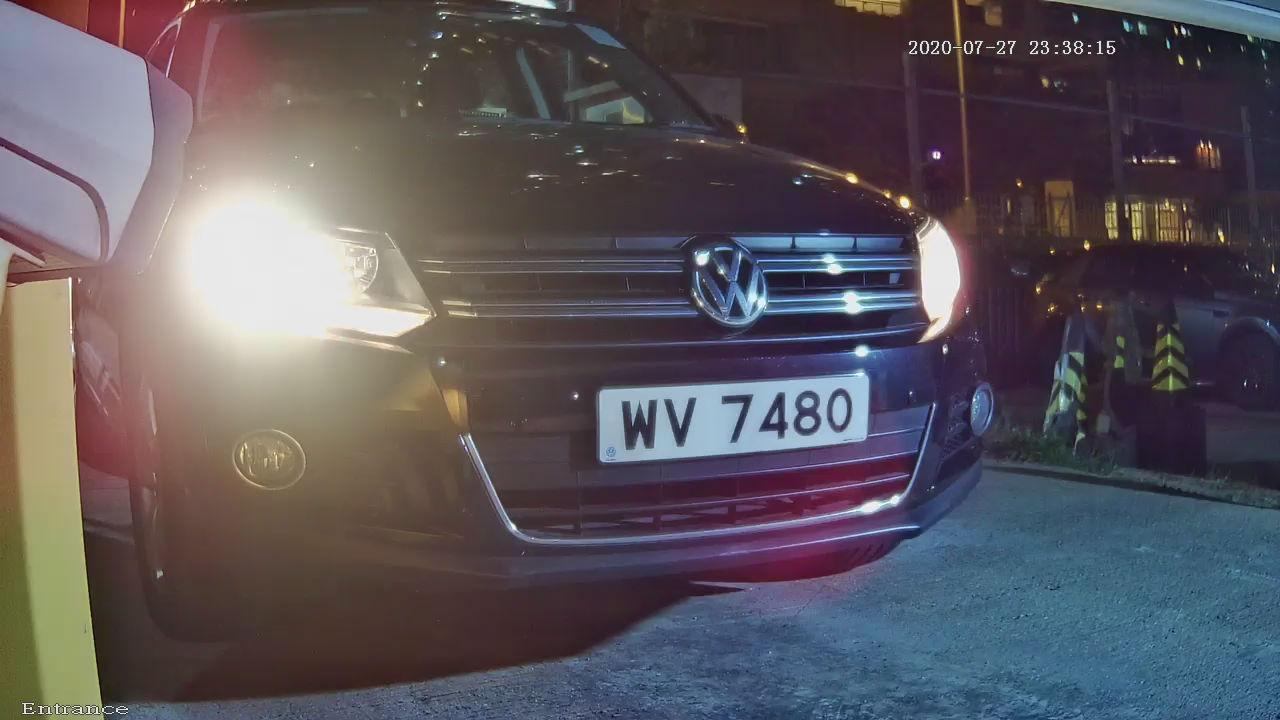privatecar: (107, 1, 1030, 633)
